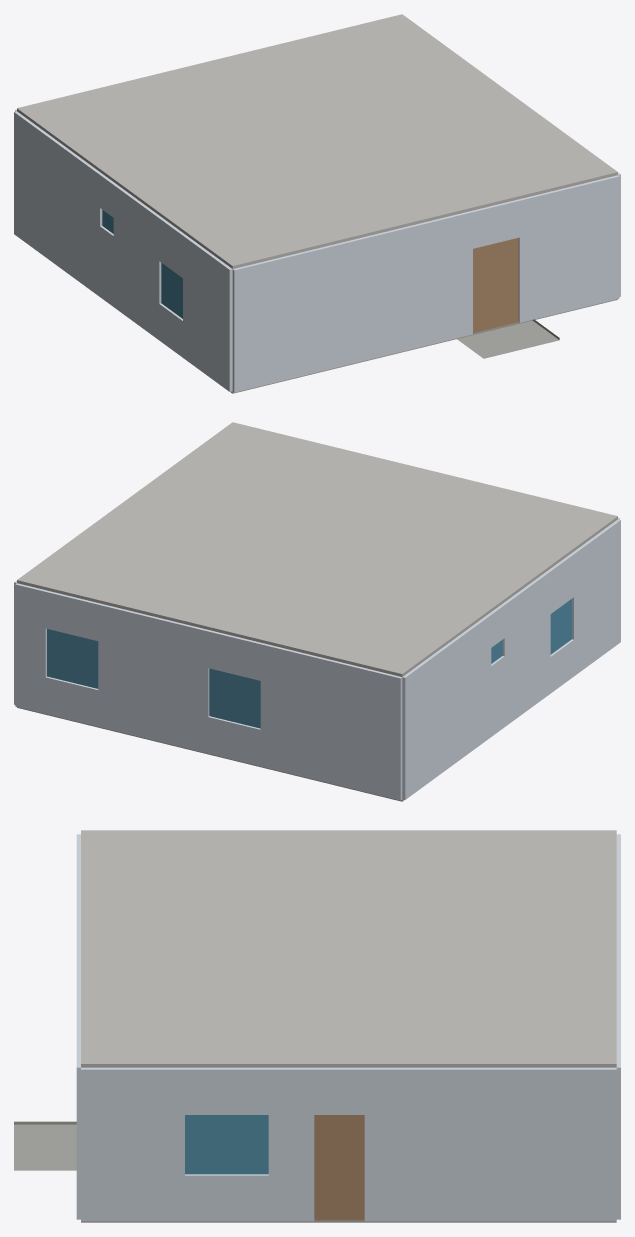
Rendered from 2BHK_10.glb.
3 renders of one model, top to bottom at view 1: azimuth 30°, elevation 25°; view 2: azimuth 150°, elevation 25°; view 3: azimuth 270°, elevation 25°, orthographic. The views are drawn at different scales.
Parts seen in each view (by area): view 1: Roof, Wall_W003, Wall_W001, Wall_W002, Wall_W015, Wall_W007, Door_D_BAL_01, Balcony_BAL_MAIN, Window_WN02, Floor; view 2: Roof, Wall_W024, Wall_W023, Wall_W002, Wall_W022, Wall_W015, Wall_W007, Window_WN04, Window_WN03, Window_WN02, Floor; view 3: Roof, Wall_W021, Wall_W005, Wall_W013, Door_D_ENTRY, Window_WN01, Balcony_BAL_MAIN, Wall_W003, Wall_W024, Floor.
Boxes of the visible parts, x1,y1,x2,y2 form: Roof: [17, 14, 617, 268]; Wall_W003: [372, 175, 619, 358]; Wall_W001: [232, 235, 372, 392]; Wall_W002: [143, 206, 232, 391]; Wall_W015: [14, 111, 91, 289]; Wall_W007: [89, 166, 145, 328]; Door_D_BAL_01: [473, 238, 518, 332]; Balcony_BAL_MAIN: [457, 319, 559, 358]; Window_WN02: [161, 263, 182, 318]; Floor: [230, 299, 617, 393]; Roof: [17, 422, 617, 676]; Wall_W024: [15, 583, 193, 749]; Wall_W023: [192, 626, 324, 781]; Wall_W002: [532, 519, 620, 704]; Wall_W022: [323, 658, 402, 800]; Wall_W015: [402, 622, 480, 799]; Wall_W007: [478, 582, 534, 744]; Window_WN04: [209, 668, 260, 728]; Window_WN03: [47, 629, 98, 688]; Window_WN02: [550, 599, 571, 654]; Floor: [17, 707, 404, 801]; Roof: [81, 830, 616, 1067]; Wall_W021: [429, 1067, 616, 1221]; Wall_W005: [81, 1067, 295, 1221]; Wall_W013: [295, 1067, 429, 1221]; Door_D_ENTRY: [314, 1115, 364, 1219]; Window_WN01: [185, 1115, 268, 1174]; Balcony_BAL_MAIN: [14, 1121, 76, 1170]; Wall_W003: [76, 918, 80, 1219]; Wall_W024: [616, 960, 620, 1219]; Floor: [81, 1220, 616, 1222].
Bounding box in the file's own units: 10.21 × 3.18 × 11.05.
